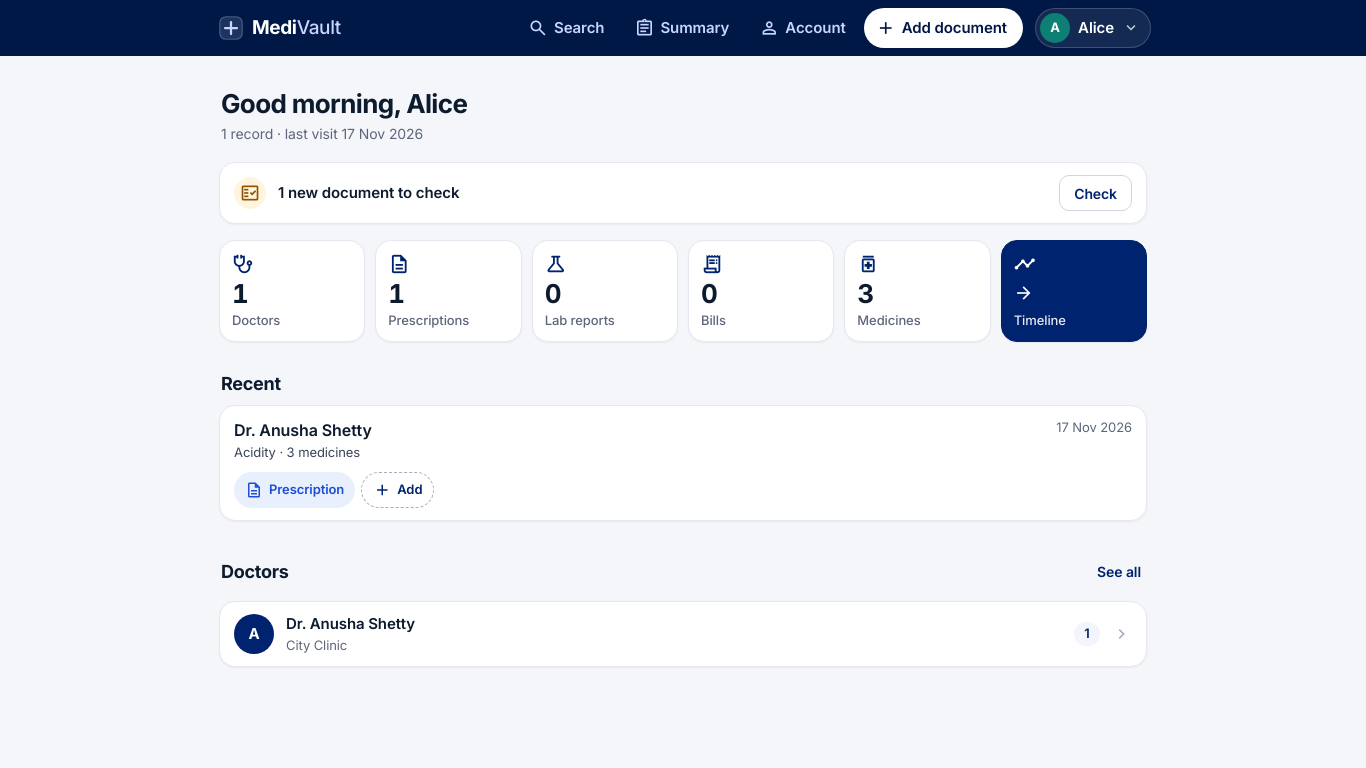
Scenario: save writes the fixes, marks it checked, and remembers names you vouched for
Step 1. Click the button "Check" → point(1096, 193), box left=1059, top=175, right=1132, bottom=211
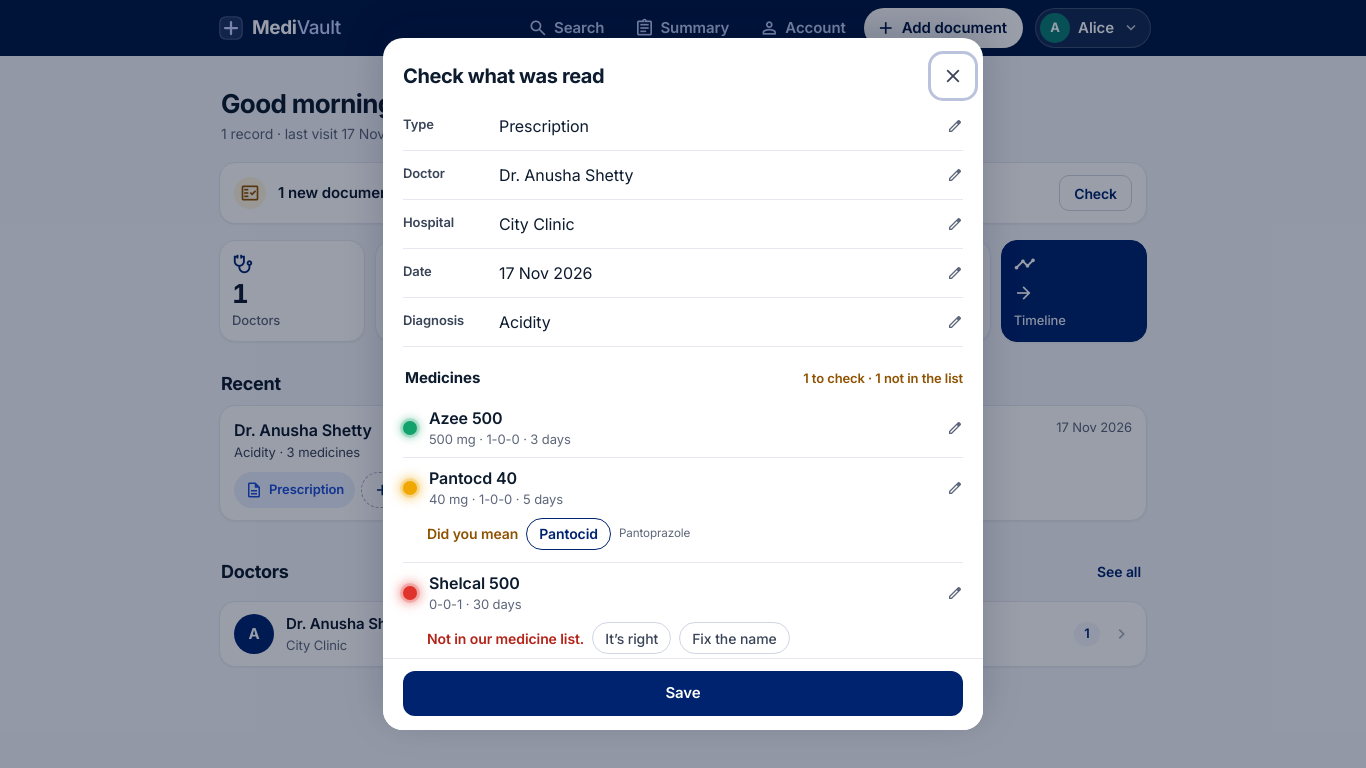
Expected: the button "Pantocid" is shown, left=526, top=518, right=611, bottom=550
Note: Fix the doctor in place.
Step 2. Click the button "Dr. Anusha Shetty" → point(566, 175), box left=499, top=157, right=963, bottom=193
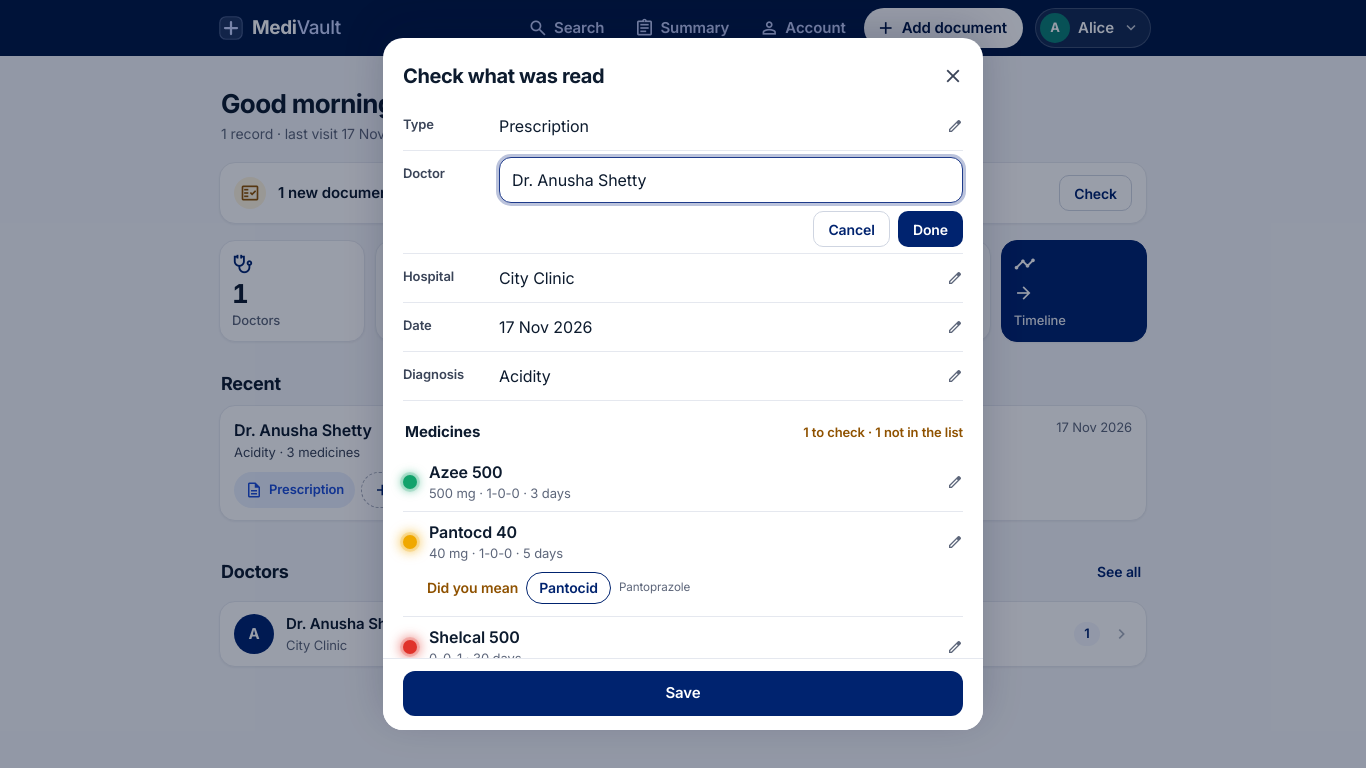
Step 3. Replace the text in the field named "Doctor" with "Dr. Anusha S Shetty" → point(731, 180), box left=499, top=157, right=963, bottom=203
Step 4. Click the button "Done" → point(930, 229), box left=898, top=211, right=963, bottom=247
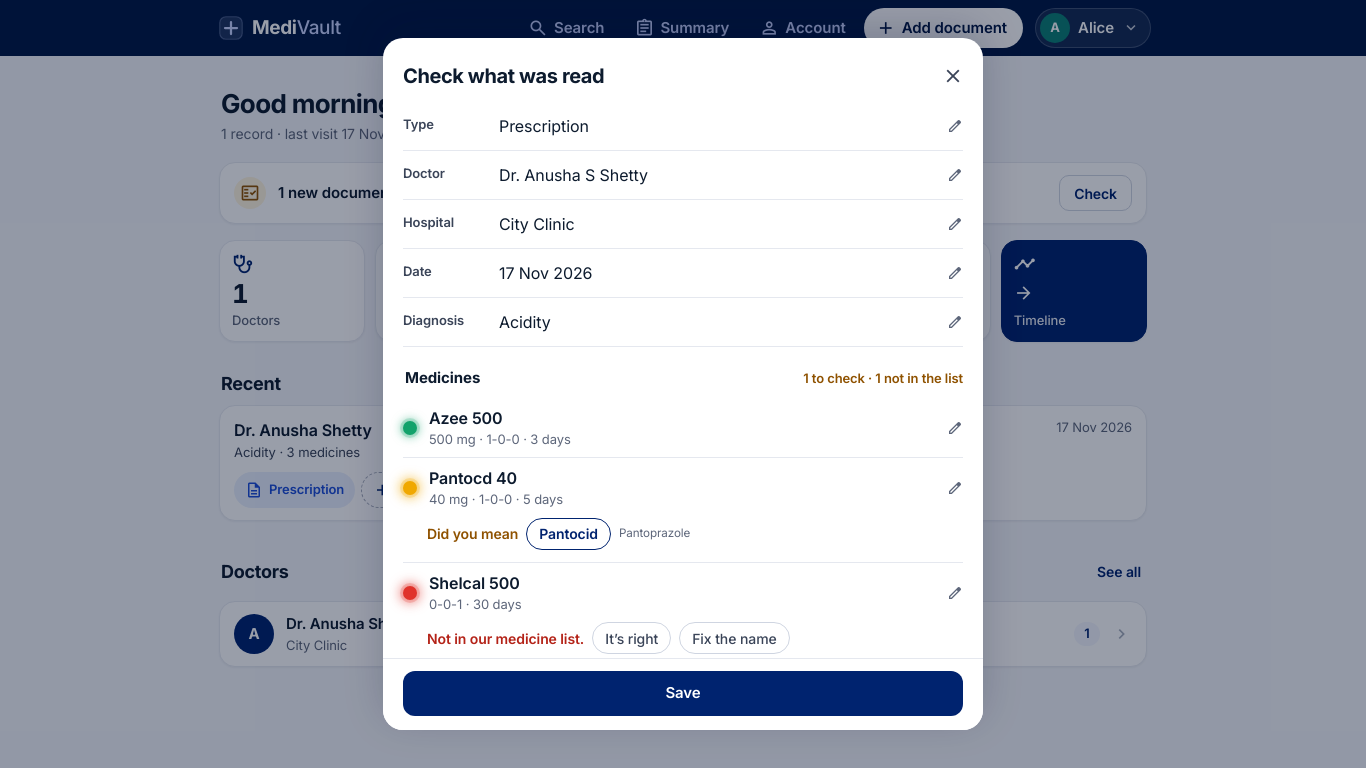
Note: Take the suggestion, and vouch for the red one.
Step 5. Click the button "Pantocid" → point(569, 534), box left=526, top=518, right=611, bottom=550
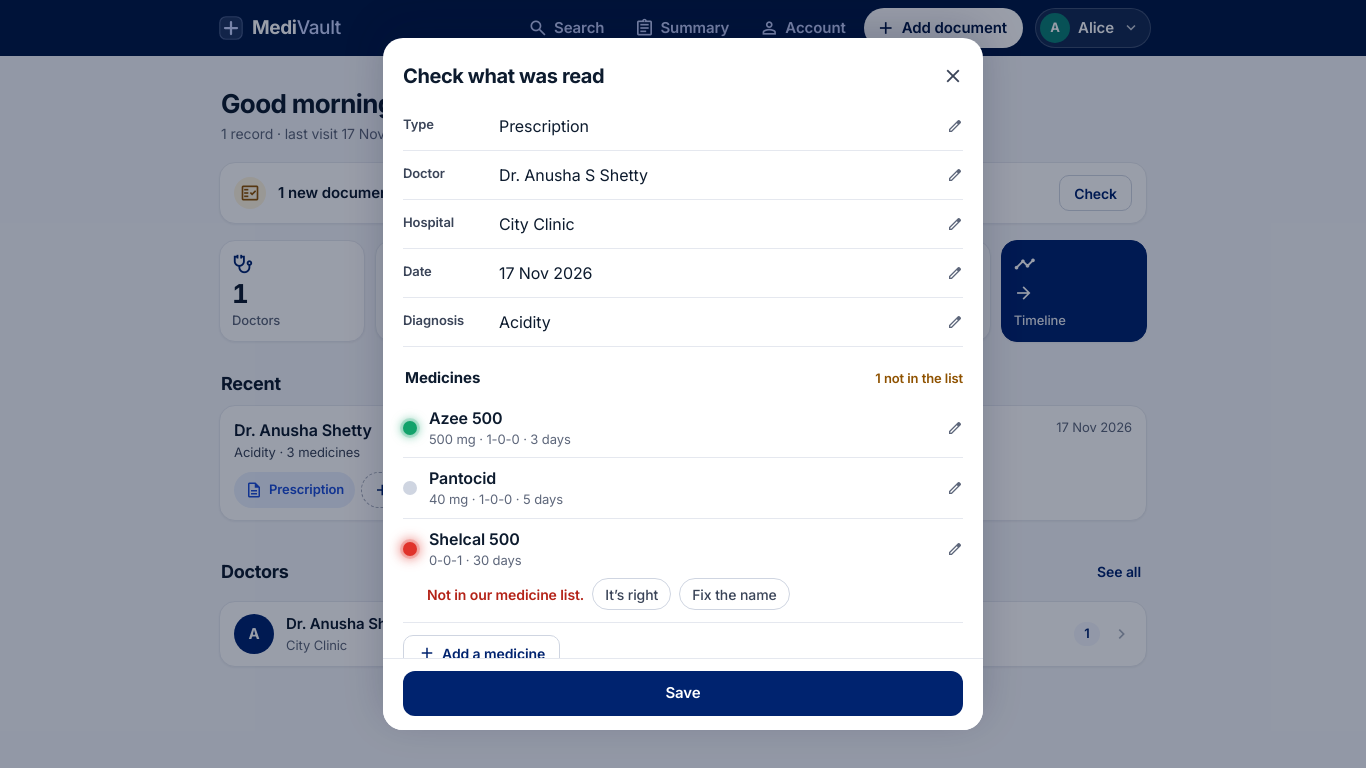
Step 6. Click the button "It’s right" → point(632, 594), box left=592, top=578, right=671, bottom=610
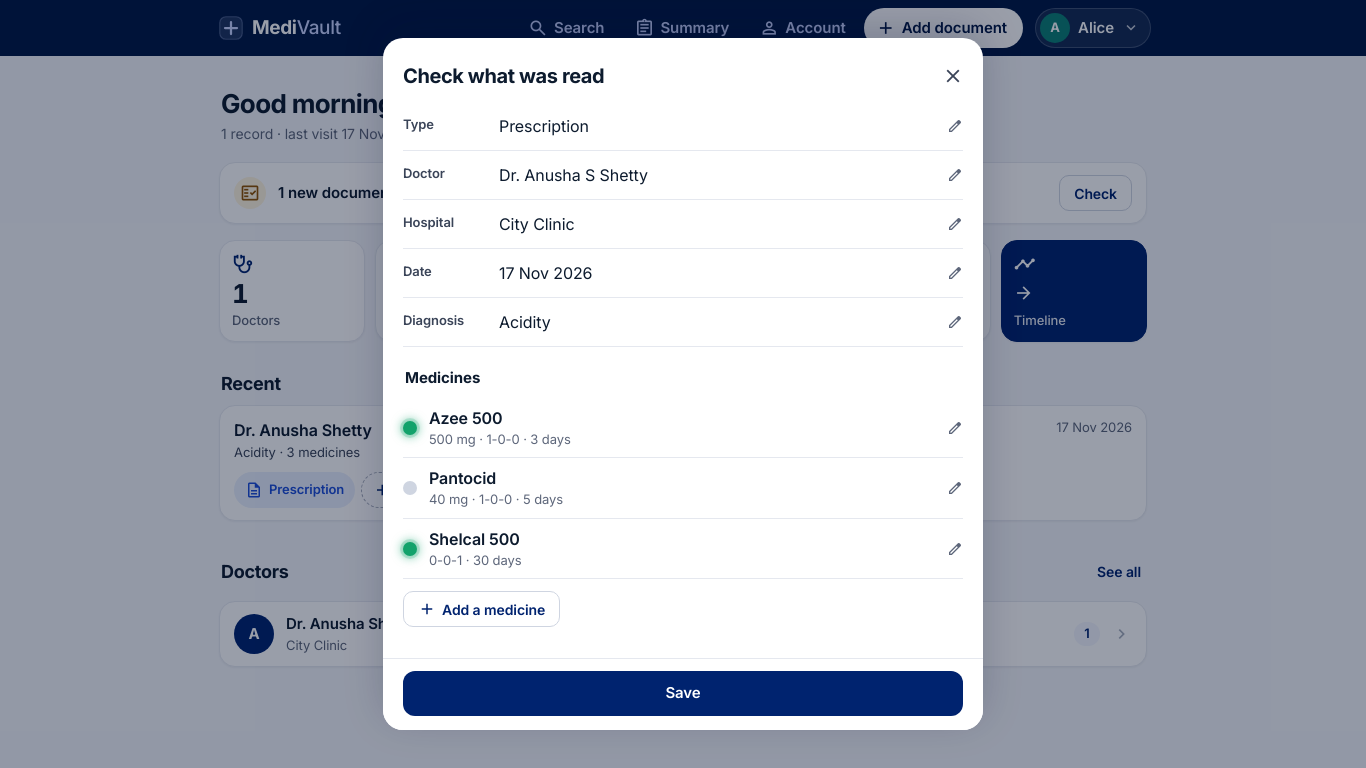
Step 7. Click the button "Save" → point(683, 693), box left=403, top=671, right=963, bottom=716
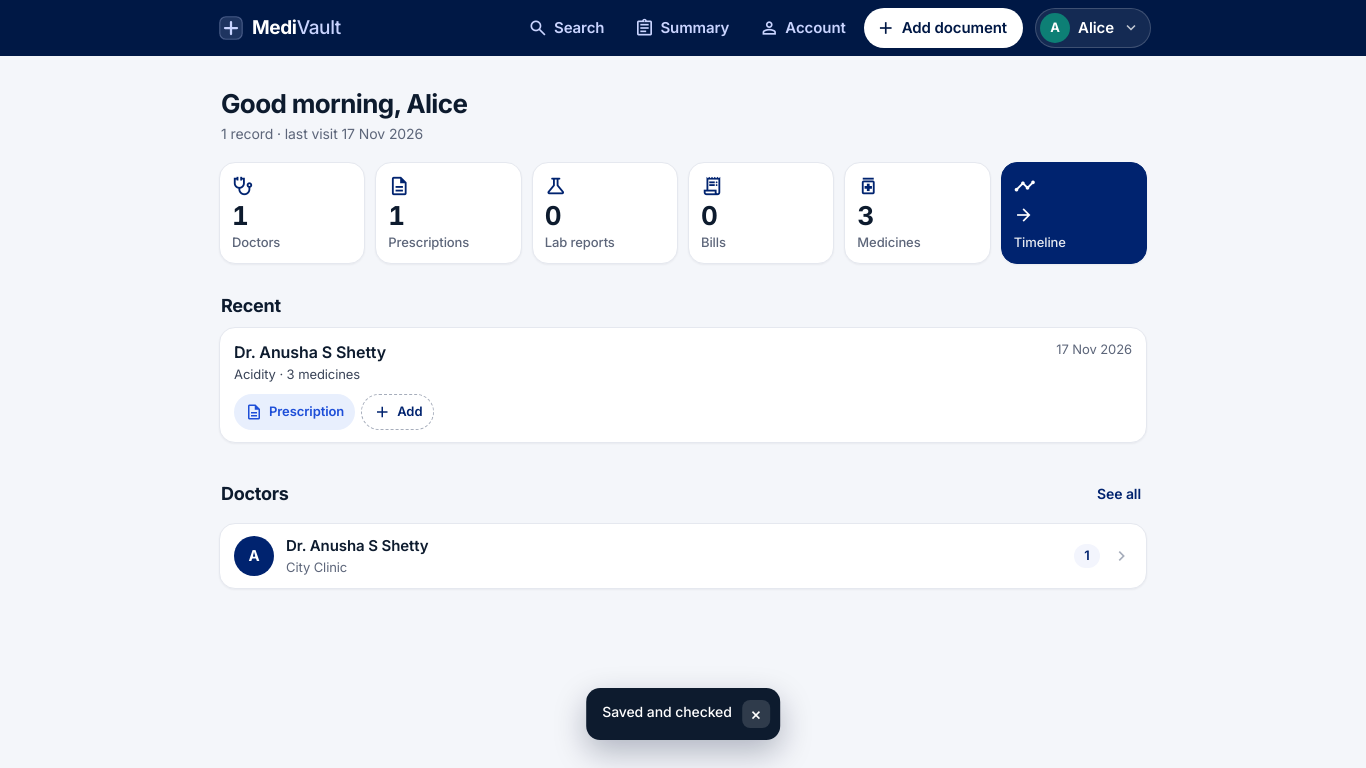
Expected: the text "Dr. Anusha S Shetty" below "Recent" is shown, left=234, top=342, right=386, bottom=362
Expected: the text "Check what was read" is gone
